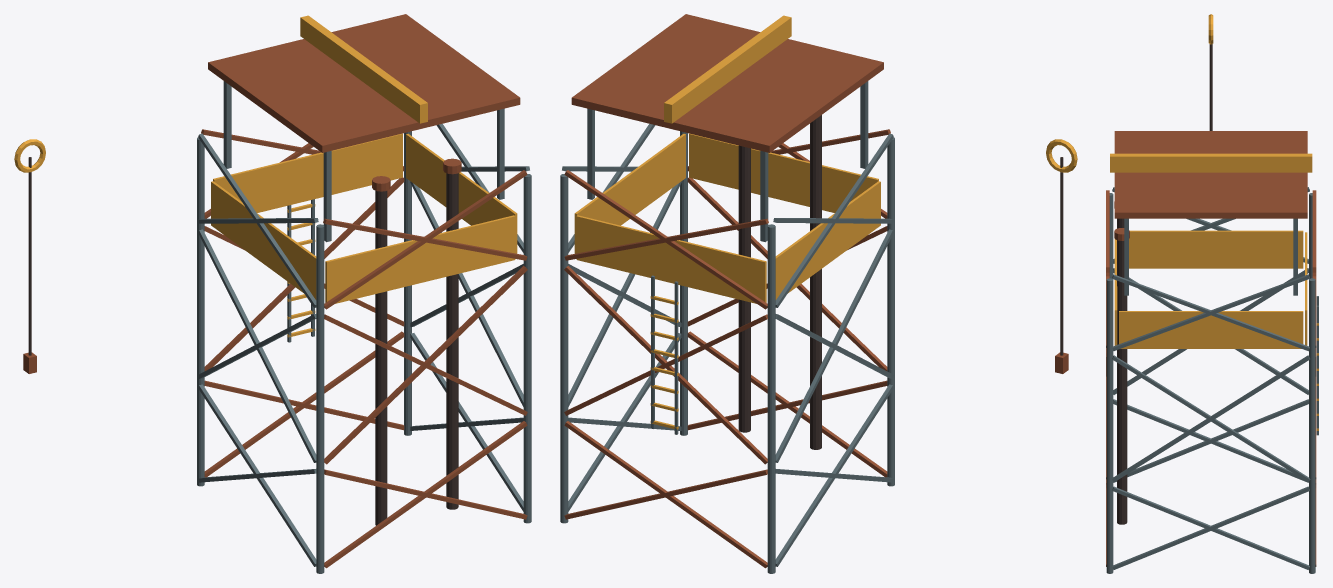
File: rustworks-central-tower.glb
3 views of the same model, side by side, from view 1: azimuth 30°, elevation 25°; view 2: azimuth 150°, elevation 25°; view 3: azimuth 270°, elevation 25° (orthographic). The views are drawn at different scales.
Visible parts, largest first — view 1: RW_canopy_roof, RW_upper_handrail_-3.15, RW_upper_handrail_3.15, RW_upper_handrail_-3.001, RW_upper_handrail_3.001, RW_process_riser_-1.15, RW_canopy_ridge, RW_process_riser_1.15, RW_leg_sleeve_-3.35_-3.35, RW_leg_sleeve_3.35_-3.35, RW_leg_sleeve_-3.35_3.35, RW_brace_xa_-3.42_3.55 (+22 smaller); view 2: RW_canopy_roof, RW_upper_handrail_3.15, RW_upper_handrail_-3.15, RW_upper_handrail_-3.001, RW_upper_handrail_3.001, RW_canopy_ridge, RW_process_riser_-1.15, RW_leg_sleeve_-3.35_3.35, RW_leg_sleeve_3.35_3.35, RW_process_riser_1.15, RW_leg_sleeve_-3.35_-3.35, RW_brace_xa_3.42_3.55 (+21 smaller); view 3: RW_canopy_roof, RW_upper_handrail_-3.001, RW_upper_handrail_3.001, RW_canopy_ridge, RW_process_riser_1.15, RW_leg_sleeve_3.35_-3.35, RW_leg_sleeve_3.35_3.35, RW_brace_za_3.42_3.55, RW_brace_zb_3.42_3.55, RW_brace_za_3.42_0.35, RW_brace_za_3.42_8.35, RW_brace_zb_3.42_0.35 (+15 smaller).
Boxes of the visible parts, x1,y1,x2,y2 form: RW_canopy_roof: (208, 14, 520, 152); RW_upper_handrail_-3.15: (325, 215, 515, 303); RW_upper_handrail_3.15: (213, 133, 402, 212); RW_upper_handrail_-3.001: (211, 181, 316, 299); RW_upper_handrail_3.001: (406, 133, 517, 253); RW_process_riser_-1.15: (375, 190, 387, 525); RW_canopy_ridge: (300, 15, 427, 123); RW_process_riser_1.15: (446, 173, 458, 509); RW_leg_sleeve_-3.35_-3.35: (316, 224, 324, 573); RW_leg_sleeve_3.35_-3.35: (523, 174, 531, 523); RW_leg_sleeve_-3.35_3.35: (197, 137, 204, 486); RW_brace_xa_-3.42_3.55: (324, 265, 527, 464); RW_canopy_roof: (571, 14, 883, 152); RW_upper_handrail_3.15: (576, 215, 766, 303); RW_upper_handrail_-3.15: (689, 133, 878, 212); RW_upper_handrail_-3.001: (775, 181, 880, 299); RW_upper_handrail_3.001: (574, 133, 685, 253); RW_canopy_ridge: (664, 15, 791, 123); RW_process_riser_-1.15: (810, 115, 821, 449); RW_leg_sleeve_-3.35_3.35: (767, 224, 775, 573); RW_leg_sleeve_3.35_3.35: (560, 174, 568, 523); RW_process_riser_1.15: (738, 145, 750, 432); RW_leg_sleeve_-3.35_-3.35: (887, 137, 894, 486); RW_brace_xa_3.42_3.55: (564, 265, 767, 464); RW_canopy_roof: (1114, 131, 1307, 218); RW_upper_handrail_-3.001: (1129, 230, 1303, 268); RW_upper_handrail_3.001: (1119, 311, 1303, 348); RW_canopy_ridge: (1110, 153, 1312, 172); RW_process_riser_1.15: (1117, 240, 1127, 524); RW_leg_sleeve_3.35_-3.35: (1106, 278, 1113, 573); RW_leg_sleeve_3.35_3.35: (1309, 278, 1315, 573); RW_brace_za_3.42_3.55: (1112, 355, 1309, 482); RW_brace_zb_3.42_3.55: (1112, 355, 1310, 482); RW_brace_za_3.42_0.35: (1112, 486, 1309, 569); RW_brace_za_3.42_8.35: (1112, 274, 1309, 350); RW_brace_zb_3.42_0.35: (1112, 486, 1309, 569).
Size of the model in its own units: 14.79 by 13.76 by 7.05.
